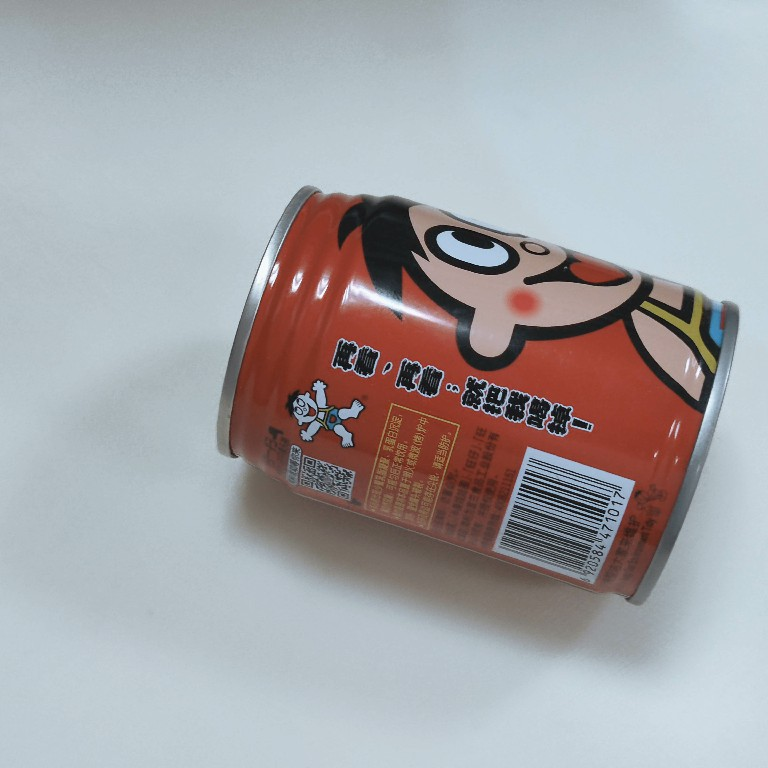can: (212, 183, 742, 612)
